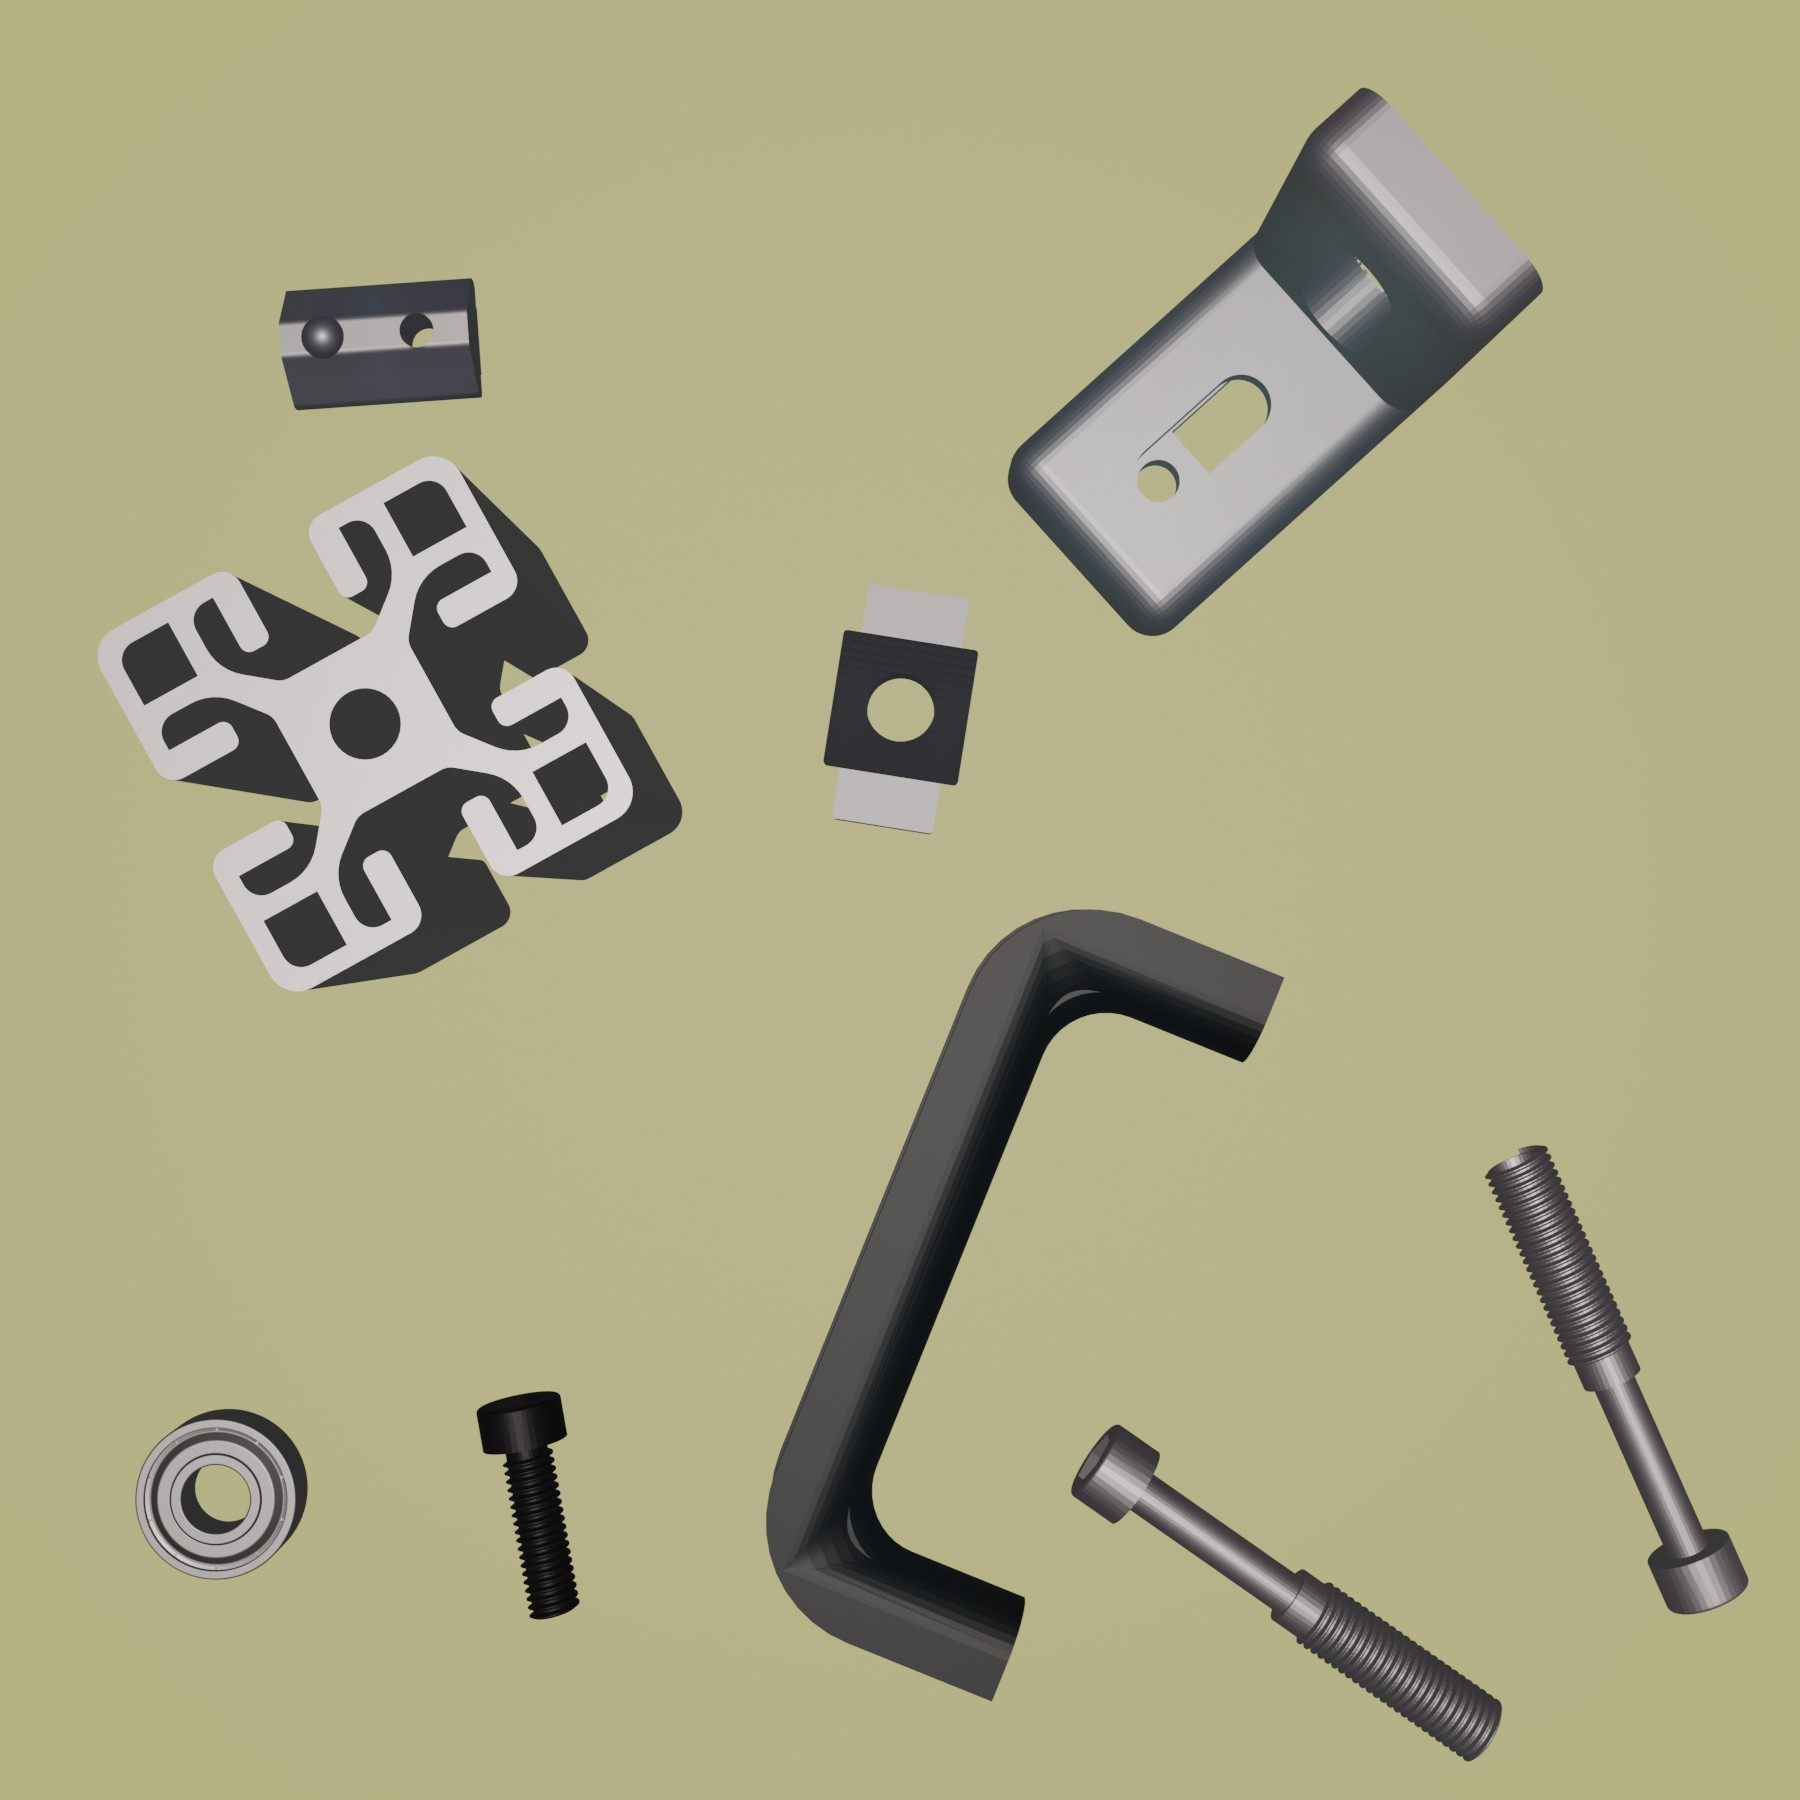Aluminium Extension: (96, 455, 686, 996)
Ball Bearing: (132, 1404, 308, 1582)
Multiwinkel: (1005, 82, 1546, 638)
Pull Handle: (763, 905, 1287, 1704)
Shoulder Socket Head Cap Screw: (1070, 1423, 1505, 1762), (1484, 1141, 1751, 1615)
Socket Head Cap Screw: (475, 1385, 582, 1620)
T Nut Square: (818, 585, 982, 841)
T Spring Nut: (274, 272, 486, 414)
